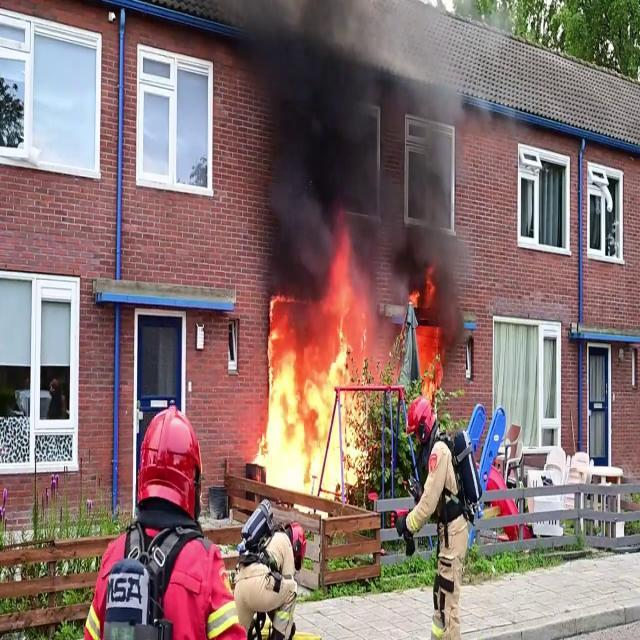Fire: (251, 255, 444, 501)
Smoke: (238, 0, 472, 300)
